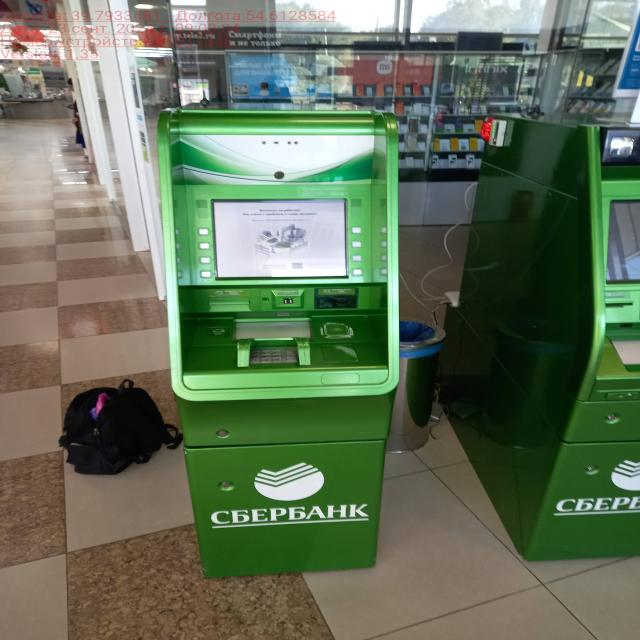bank: (150, 99, 410, 578), (452, 112, 640, 565)
